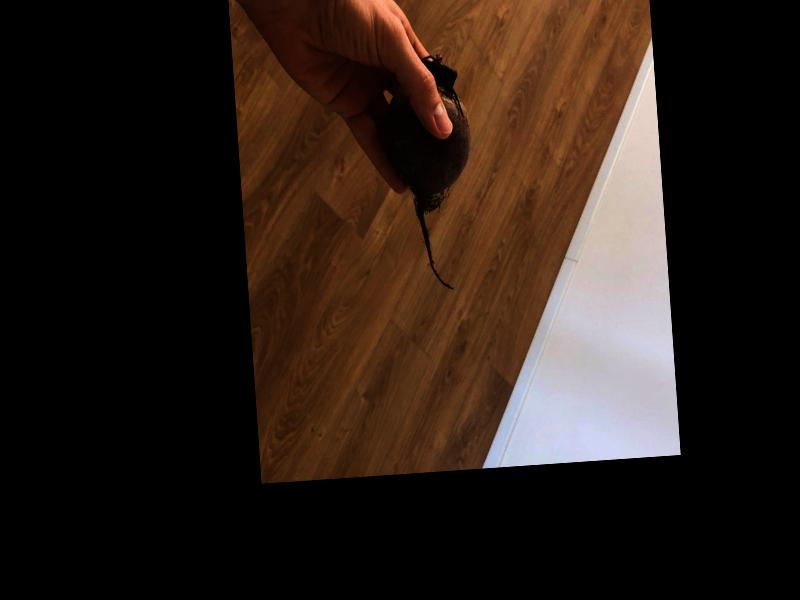Beet: (379, 53, 479, 294)
